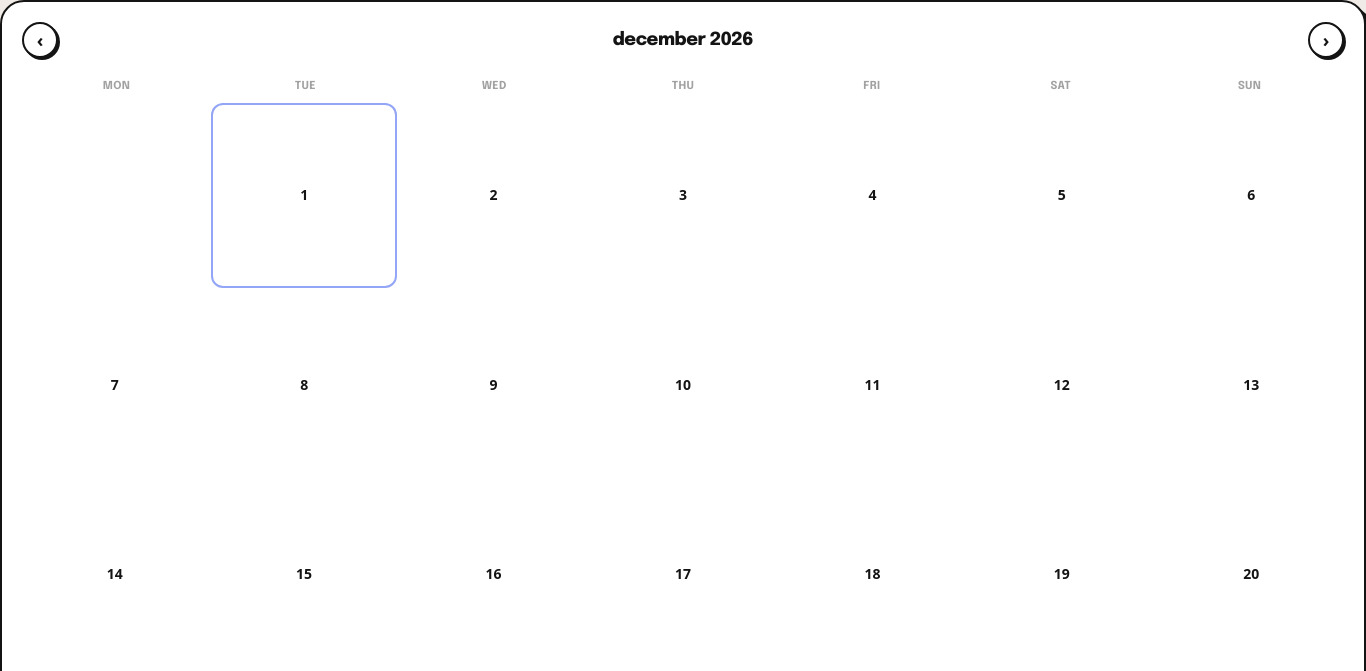
Test: Calendar › wraps next month across year boundary
Click the button named "Next month" at [1326, 40], box [1308,22,1344,58]
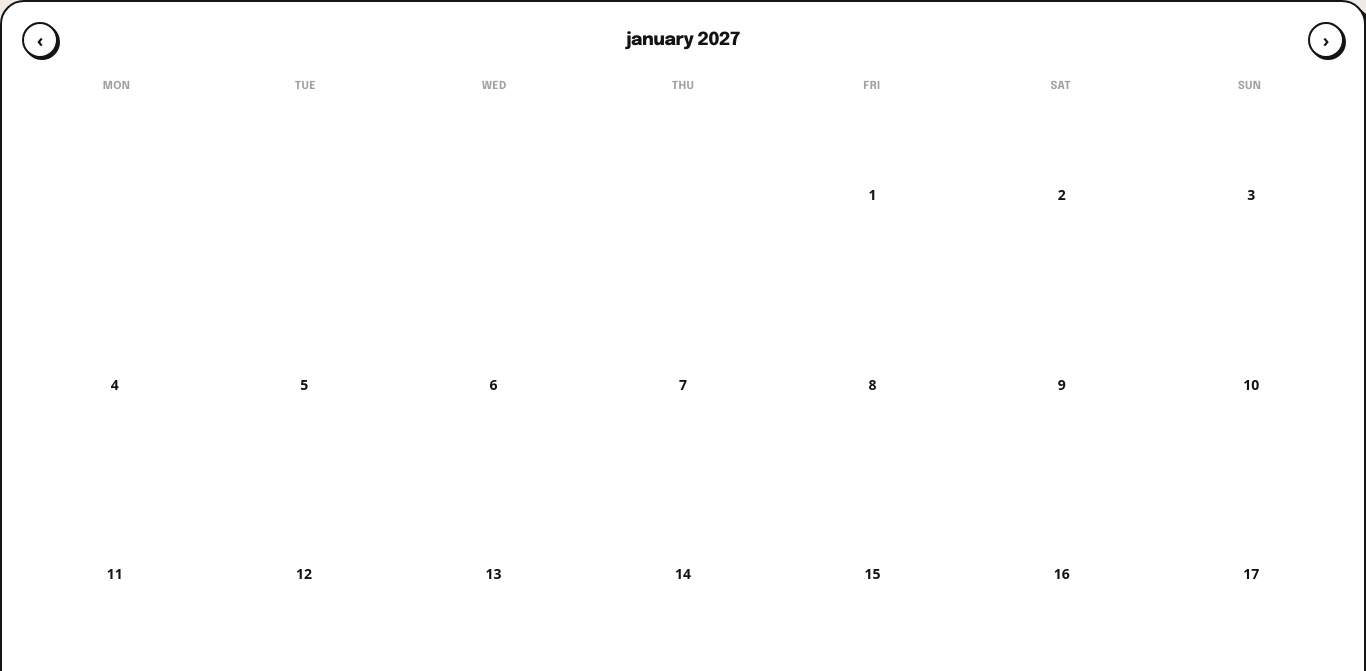
Result: the text "January 2027" is shown at [626,26,740,54]
